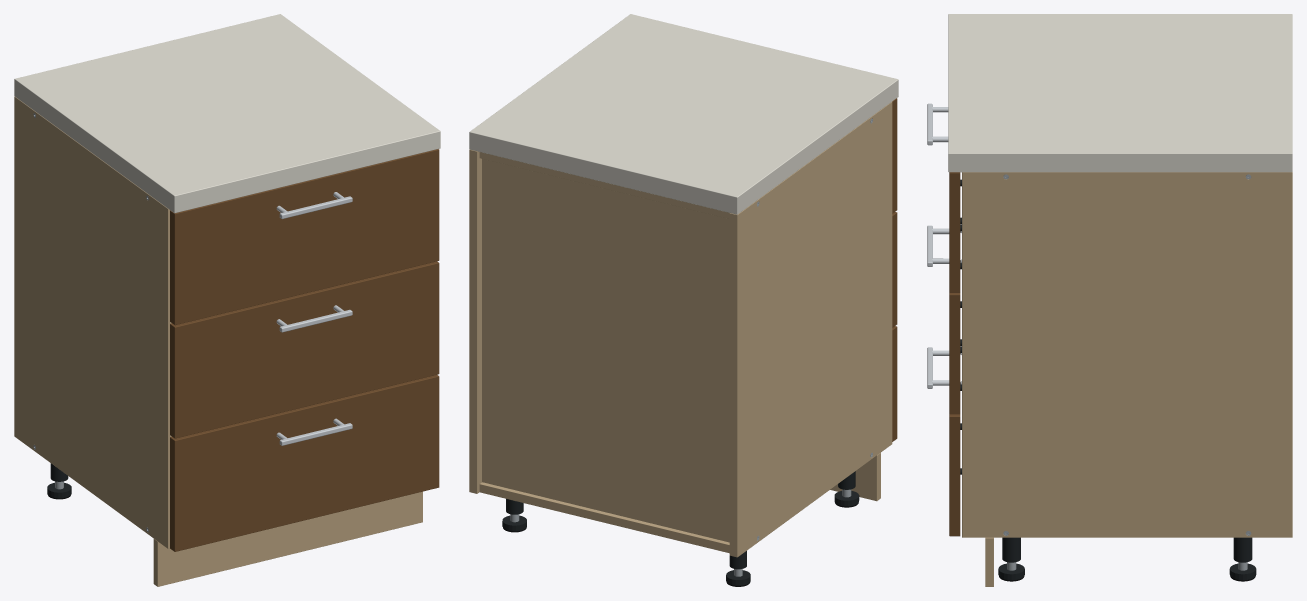
Rendered from reference-600.glb.
3 renders of one model, left to right at view 1: azimuth 30°, elevation 25°; view 2: azimuth 150°, elevation 25°; view 3: azimuth 270°, elevation 25°, orthographic. The views are drawn at different scales.
Parts seen in each view (by area): view 1: side-left, worktop, face-0, face-1, face-2, plinth, handle-0, handle-1, handle-2; view 2: back, side-left, worktop, side-right, bottom, carcass-top, plinth, face-1, face-0, face-2; view 3: side-right, worktop, face-0, face-1, face-2, leg-1-0, leg-1-1.
Boxes of the visible parts, x1=… form: side-left: x1=14, y1=96, x2=171, y2=548; worktop: x1=14, y1=14, x2=440, y2=213; face-0: x1=170, y1=375, x2=439, y2=551; face-1: x1=170, y1=261, x2=439, y2=438; face-2: x1=170, y1=149, x2=439, y2=325; plinth: x1=153, y1=491, x2=422, y2=586; handle-0: x1=276, y1=418, x2=352, y2=445; handle-1: x1=276, y1=305, x2=352, y2=332; handle-2: x1=276, y1=192, x2=352, y2=218; back: x1=482, y1=159, x2=729, y2=542; side-left: x1=729, y1=102, x2=892, y2=557; worktop: x1=469, y1=14, x2=898, y2=214; side-right: x1=469, y1=149, x2=481, y2=493; bottom: x1=479, y1=482, x2=729, y2=553; carcass-top: x1=479, y1=152, x2=729, y2=218; plinth: x1=830, y1=453, x2=880, y2=501; face-1: x1=892, y1=212, x2=897, y2=327; face-0: x1=892, y1=326, x2=897, y2=441; face-2: x1=892, y1=98, x2=897, y2=213; side-right: x1=962, y1=172, x2=1292, y2=537; worktop: x1=948, y1=14, x2=1292, y2=172; face-0: x1=949, y1=414, x2=960, y2=536; face-1: x1=949, y1=292, x2=960, y2=414; face-2: x1=949, y1=172, x2=960, y2=292; leg-1-0: x1=1233, y1=537, x2=1252, y2=562; leg-1-1: x1=1002, y1=537, x2=1020, y2=562.
Bounding box in the file's own units: 600 × 870 × 663.
